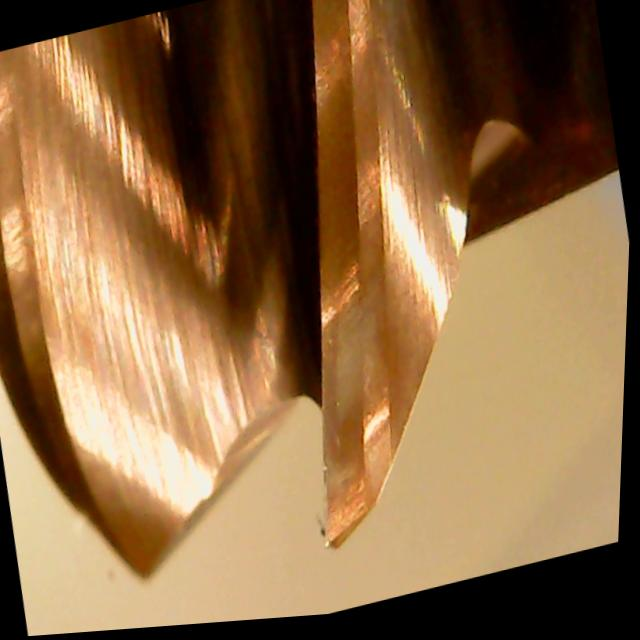Tool-wear-class-0: (253, 170, 467, 568)
